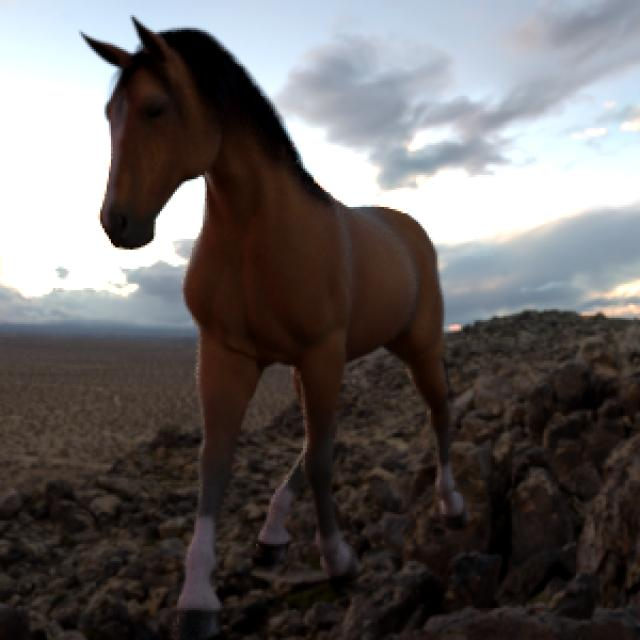horse: (84, 20, 465, 618)
